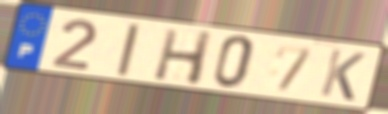0: (213, 34, 260, 92)
2: (49, 17, 100, 72)
7: (273, 44, 314, 93)
H: (150, 27, 216, 88)
I: (114, 22, 143, 78)
K: (317, 47, 369, 103)
